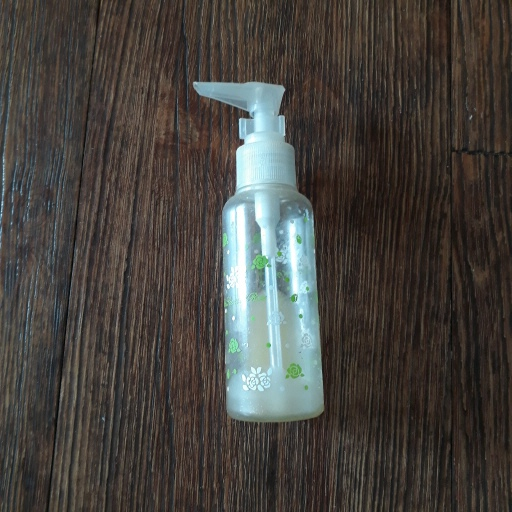Plastic_3: (188, 75, 327, 425)
